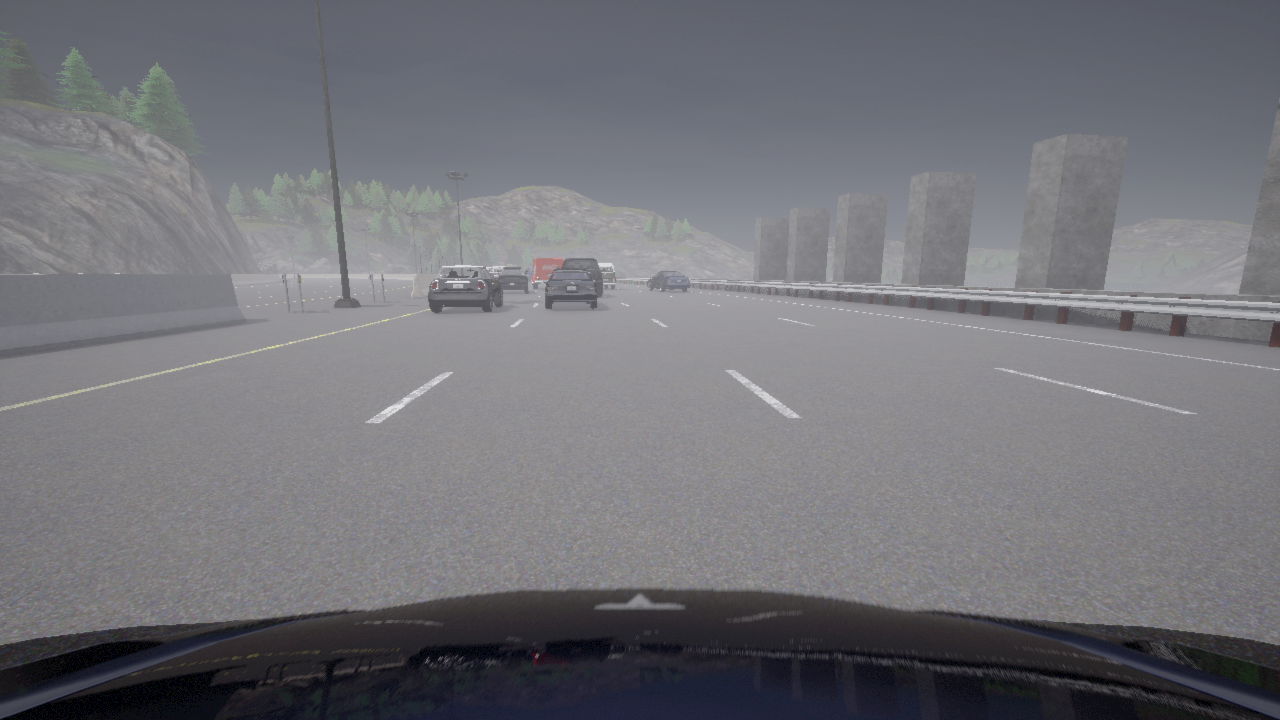cyclist: (0, 588, 1279, 719), (428, 265, 502, 312), (543, 268, 597, 308), (556, 258, 602, 296), (530, 258, 563, 288), (647, 271, 690, 291), (497, 267, 528, 293), (598, 263, 615, 289), (488, 266, 503, 277), (524, 268, 533, 281), (486, 267, 490, 270)
